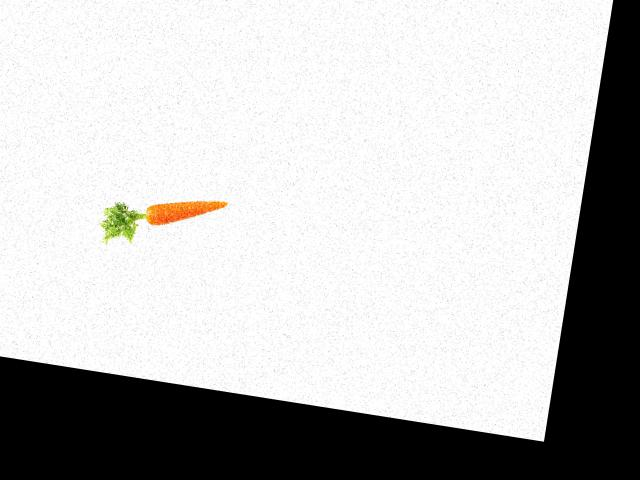carrot: (141, 186, 232, 238)
